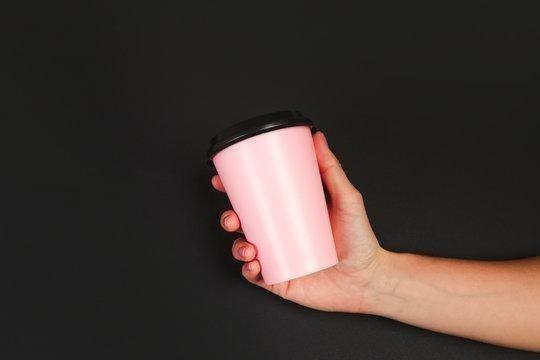cup-disposable: (205, 105, 344, 286)
